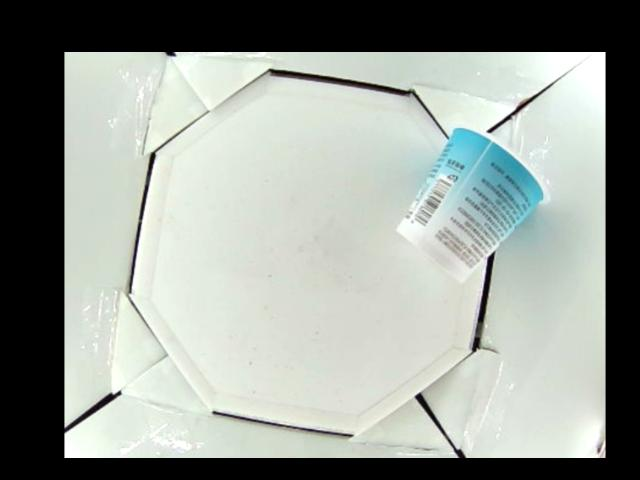Cup: (398, 127, 548, 280)
